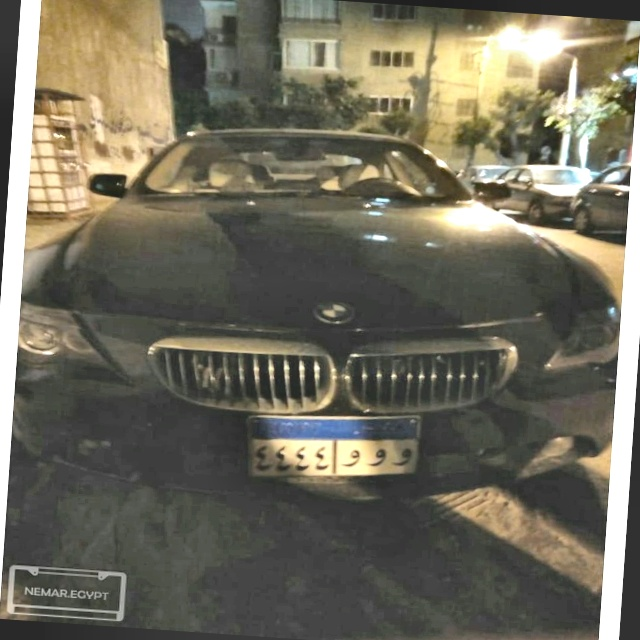License Plate: (239, 401, 428, 492)
